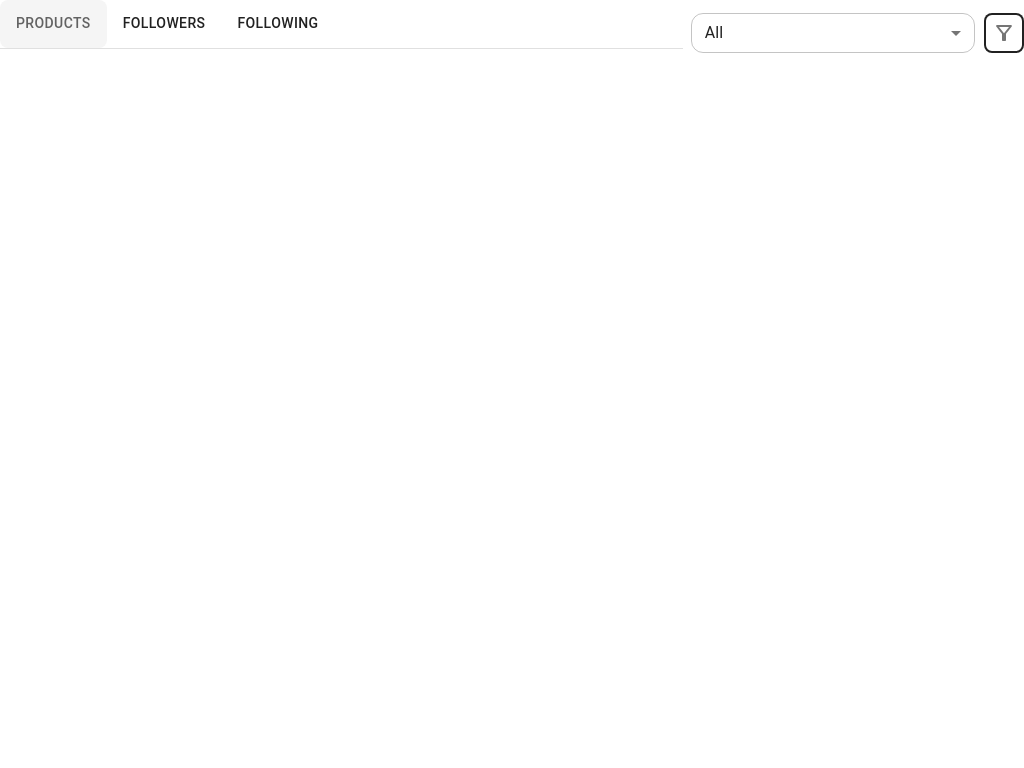
ContentHeader › handles filter icon button click correctly
The width and height of the screenshot is (1024, 768).
Click the button with test id "ProductFilter_IconButton" at (1004, 32), box x1=984 y1=12 x2=1023 y2=52
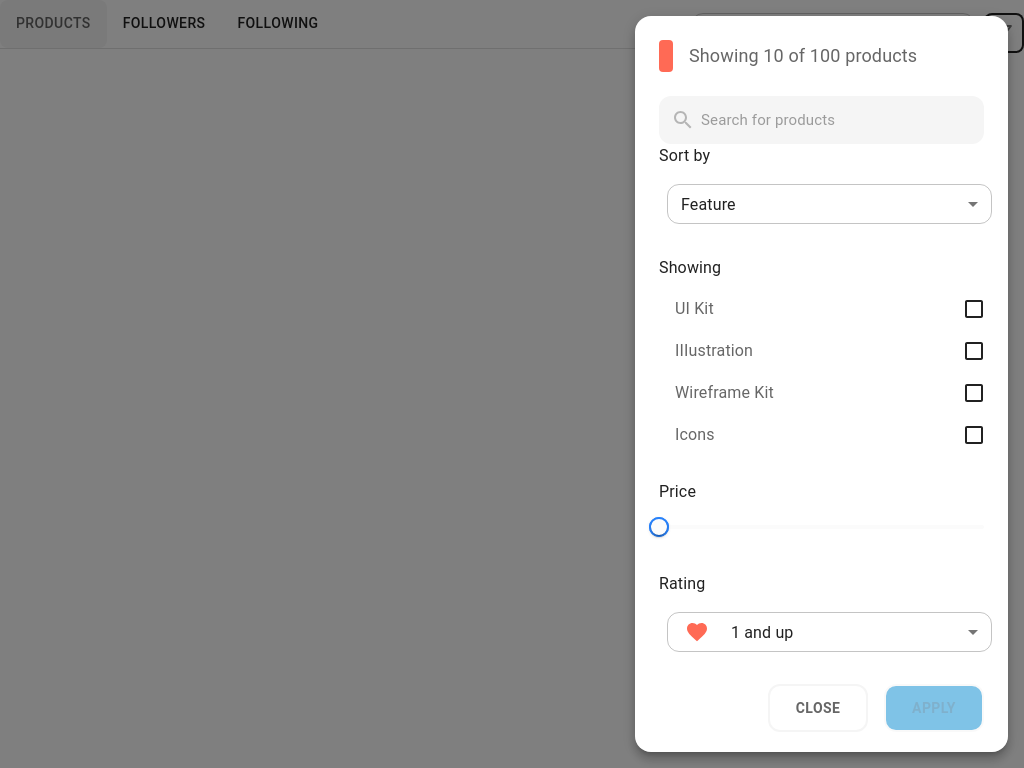
expect the element with test id "ProductFilter_Popover" is shown: met, box x1=635 y1=16 x2=1008 y2=752
